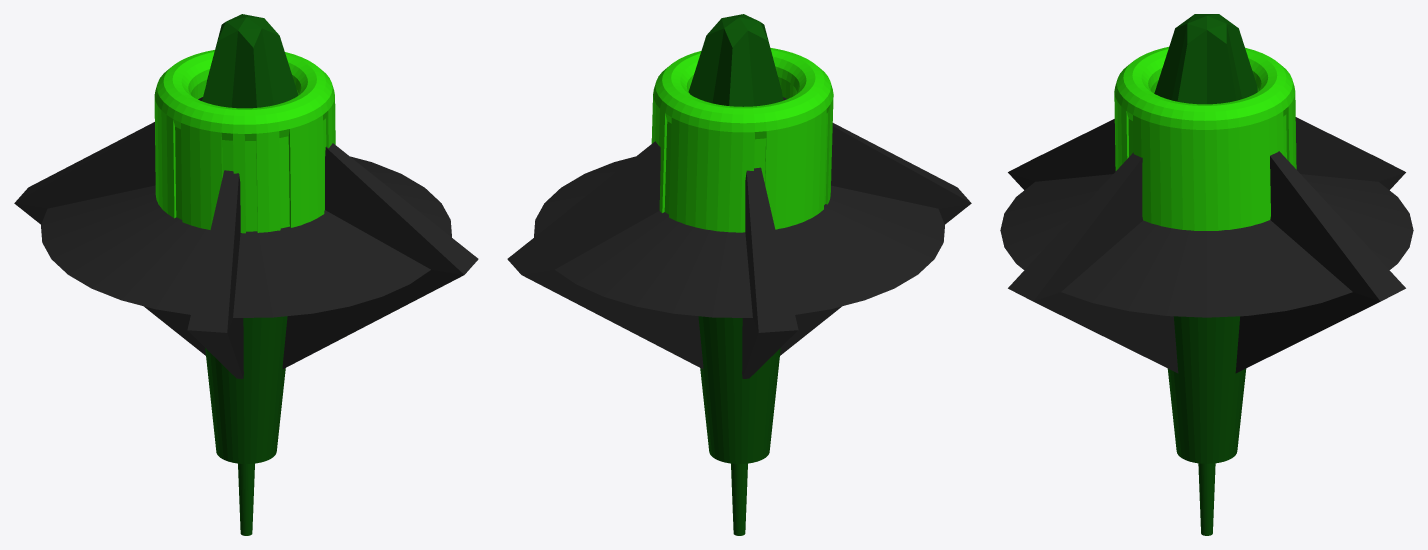
File: Kamikaze.fbx
The picture shows the model from 3 angles, left to right: view 1: azimuth 30°, elevation 25°; view 2: azimuth 150°, elevation 25°; view 3: azimuth 270°, elevation 25°; orthographic projection.
Visible parts, largest first — view 1: Cone, Torus, Cylinder.001, Icosphere; view 2: Cone, Torus, Cylinder.001, Icosphere; view 3: Cone, Torus, Cylinder.001, Icosphere.
Boxes of the visible parts, x1,y1,x2,y2 form: Cone: (14, 97, 478, 378); Torus: (154, 50, 335, 233); Cylinder.001: (205, 316, 287, 535); Icosphere: (202, 14, 298, 108); Cone: (507, 97, 971, 378); Torus: (651, 48, 833, 232); Cylinder.001: (698, 316, 780, 535); Icosphere: (688, 14, 783, 106); Cone: (1000, 117, 1413, 373); Torus: (1114, 47, 1296, 230); Cylinder.001: (1167, 316, 1246, 535); Icosphere: (1154, 14, 1257, 104).
Bounding box in the file's own units: 571 × 789 × 571.
